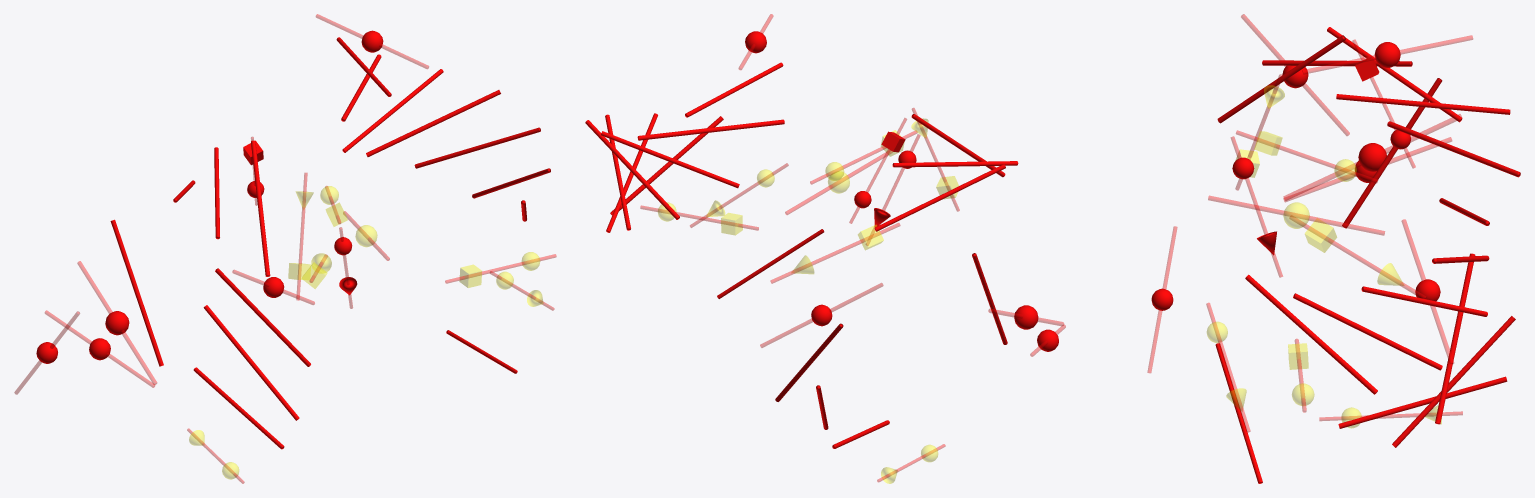
The model's file is candidate.gltf.
The picture shows the model from 3 angles, left to right: view 1: azimuth 30°, elevation 25°; view 2: azimuth 150°, elevation 25°; view 3: azimuth 270°, elevation 25°; orthographic projection. The views are drawn at different scales.
Bounding box in the file's own units: 57.29 × 40.83 × 24.46.
